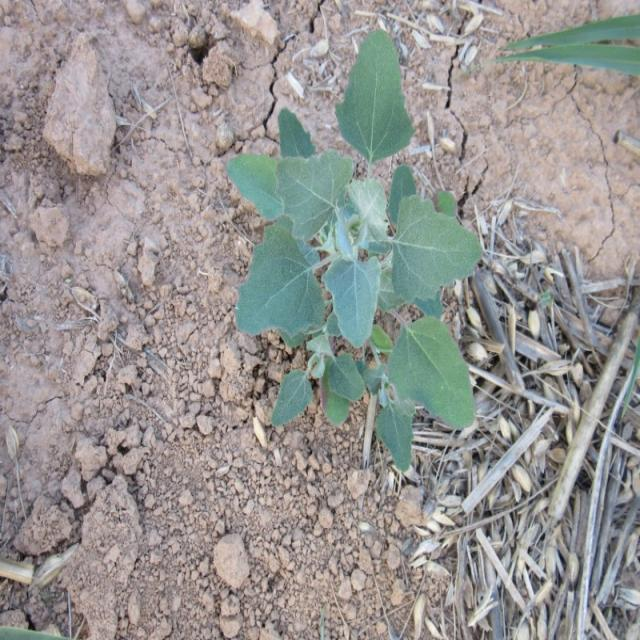ca: (225, 27, 483, 469)
